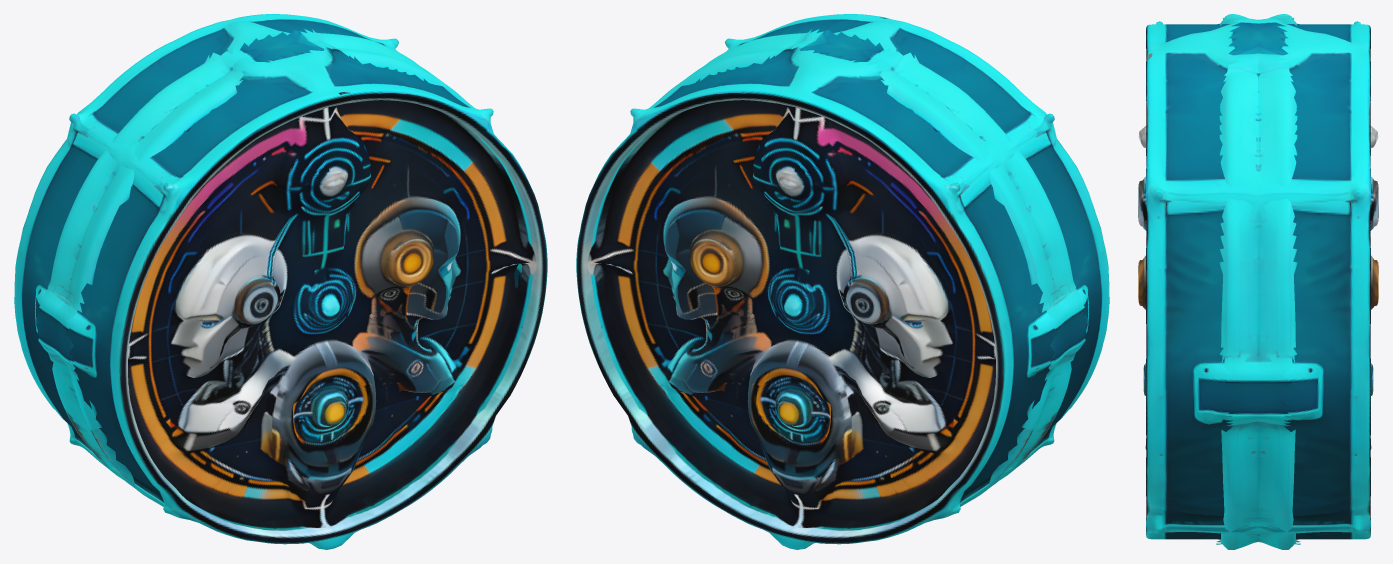
Rendered from debate.glb.
3 renders of one model, left to right at view 1: azimuth 30°, elevation 25°; view 2: azimuth 150°, elevation 25°; view 3: azimuth 270°, elevation 25°, orthographic. The views are drawn at different scales.
Visible parts, largest first — view 1: model.001; view 2: model.001; view 3: model.001.
Part boxes in pixels (x1,y1,x2,y2): model.001: (14, 14, 547, 549); model.001: (576, 14, 1109, 549); model.001: (1138, 14, 1378, 549).
Size of the model in its own units: 1.38 by 1.36 by 0.6038.
Materials: 1 (1 with a texture image).
